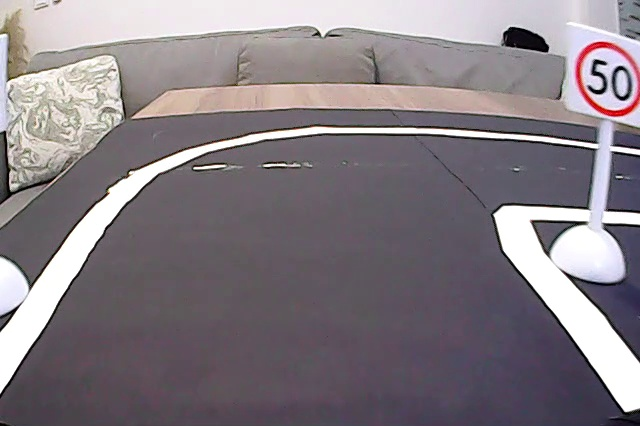speed limit 50: (570, 29, 640, 119)
